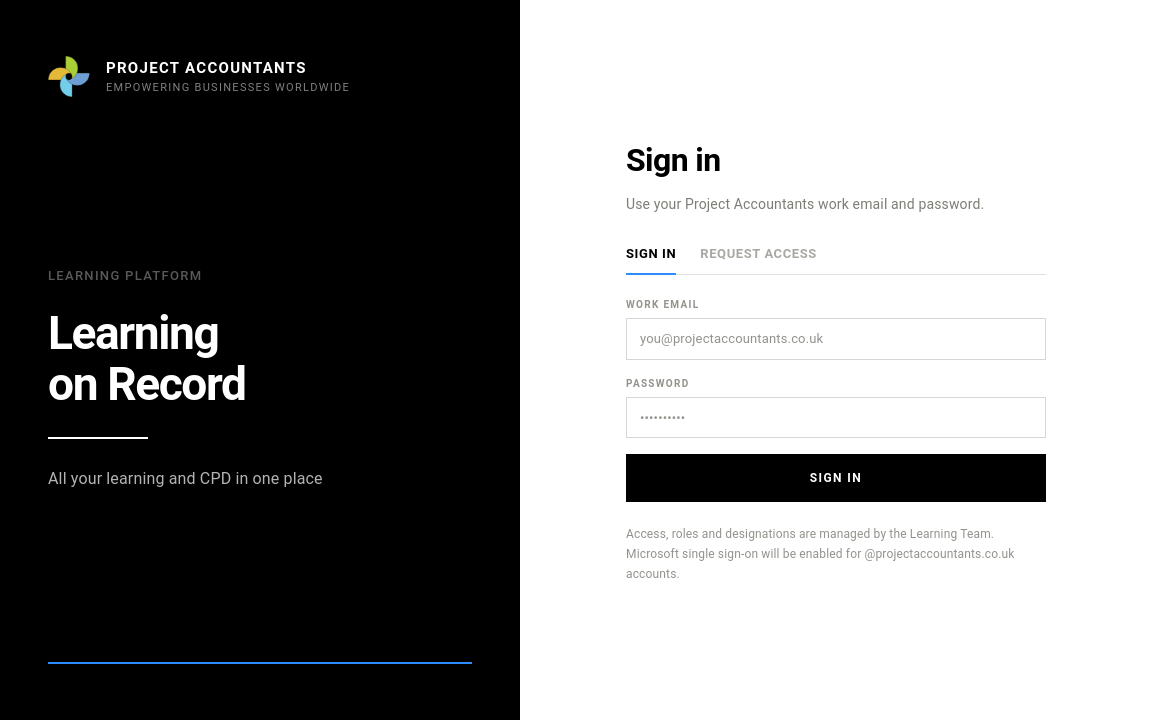
Test: SignInPage form › puts server field errors next to the field
The width and height of the screenshot is (1152, 720).
Click the tab "Request access": (759, 260) [700,244,817,275]
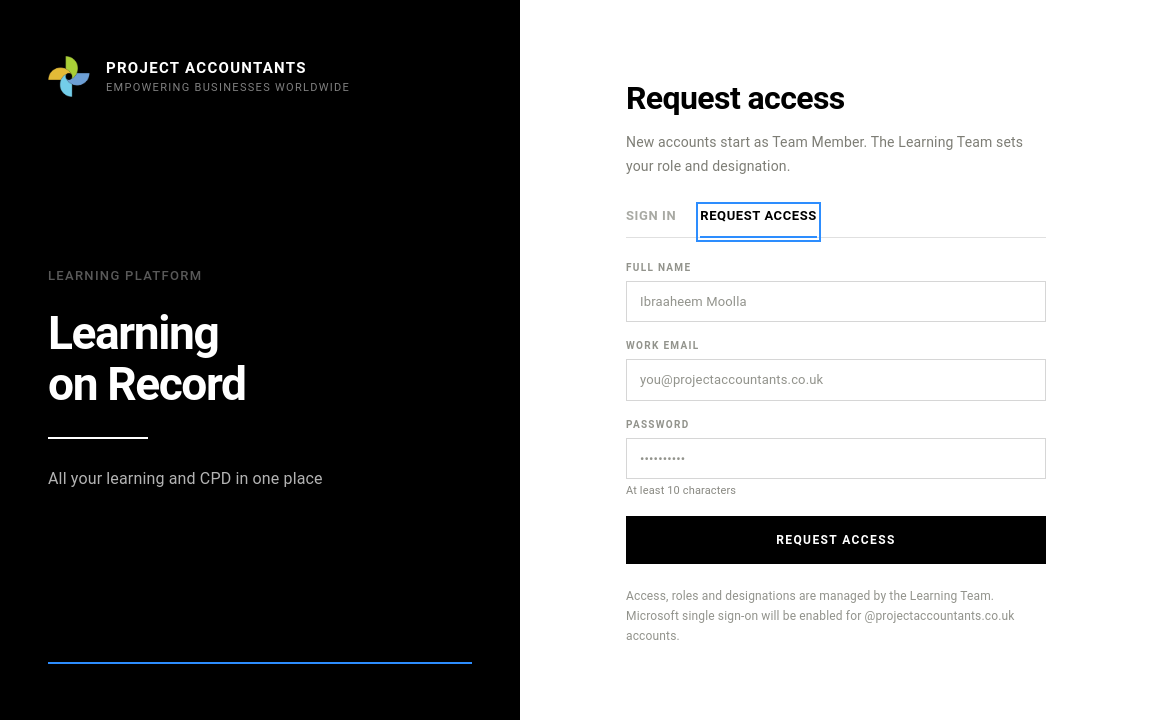
In the field labelled "Full name": (836, 302) [626,281,1046,322], type "Grace Lin"
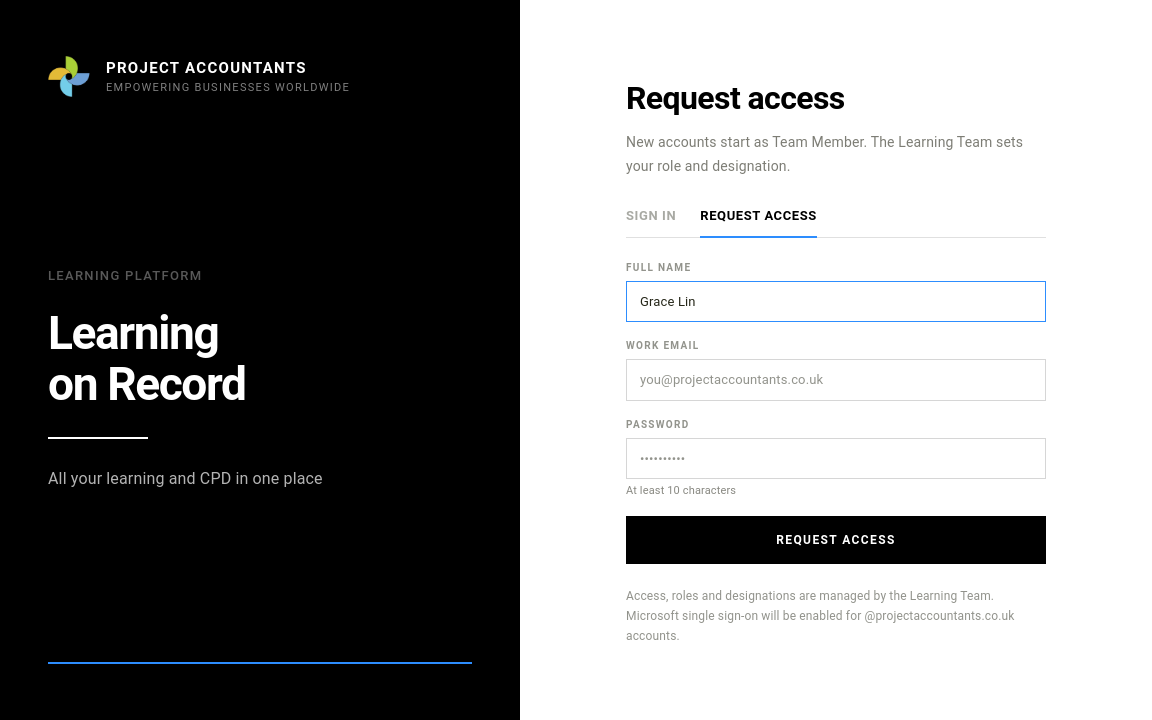
In the field labelled "Work email": (836, 380) [626,359,1046,401], type "glin@projectaccountants.co.uk"
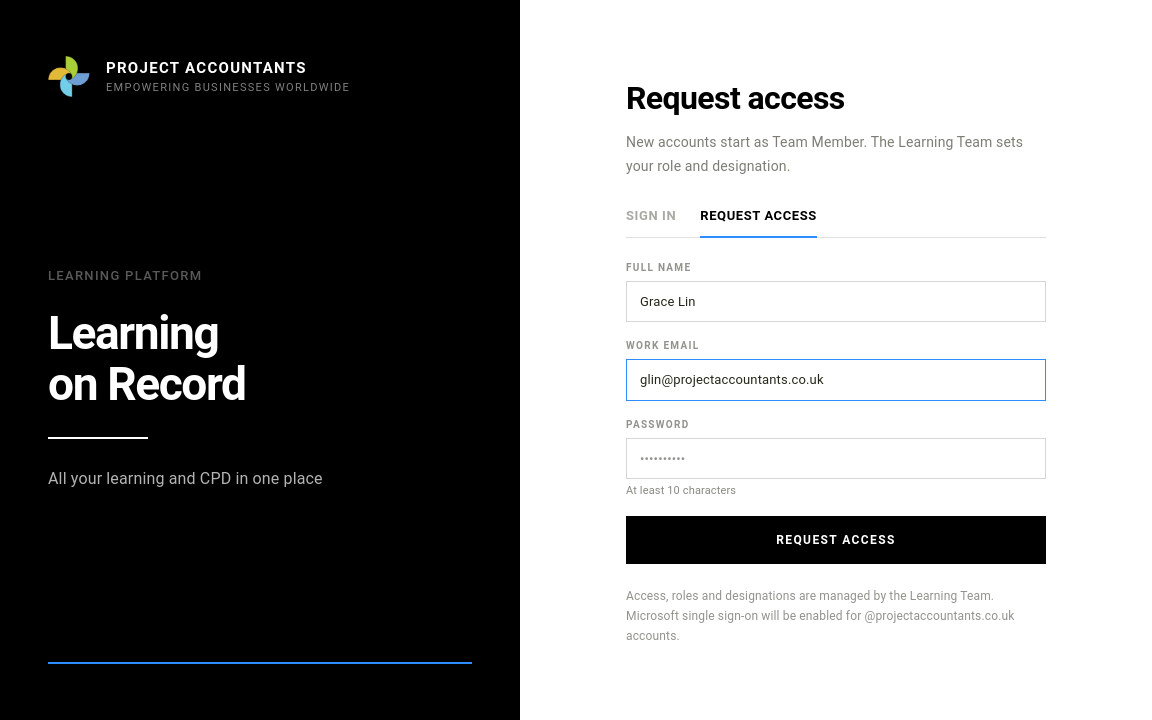
In the password field labelled "Password": (836, 459) [626,438,1046,479], type "long-enough-1"
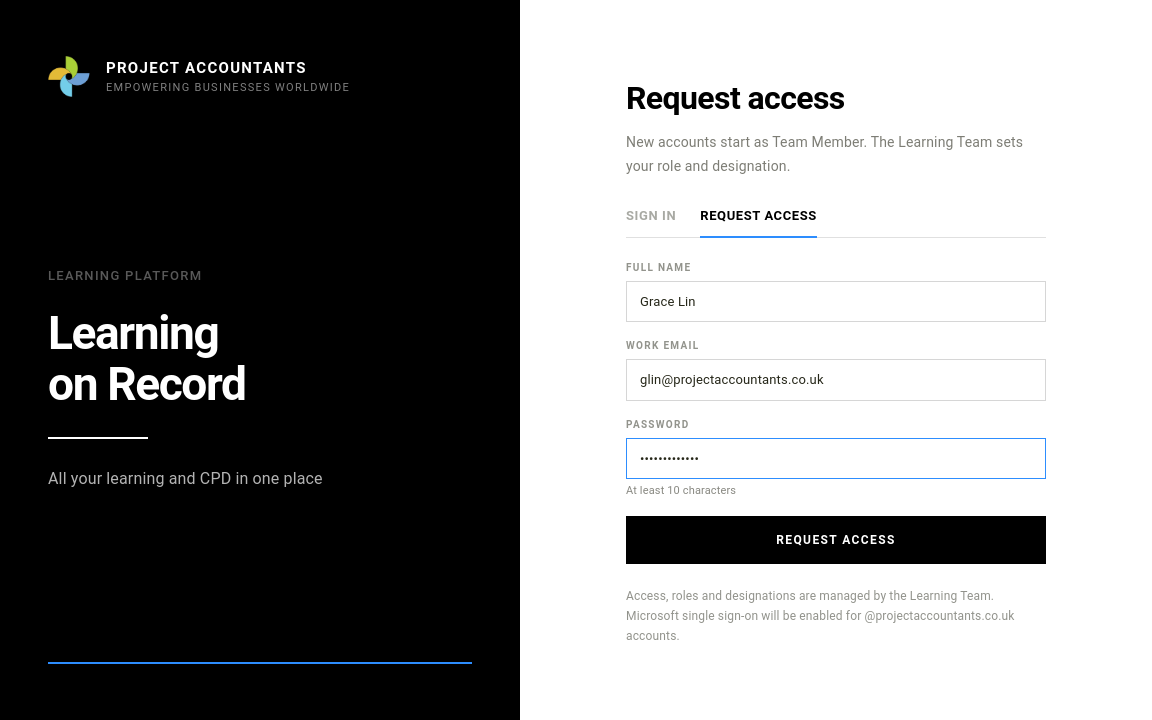
Click the button "Request access": (836, 540) [626,516,1046,564]
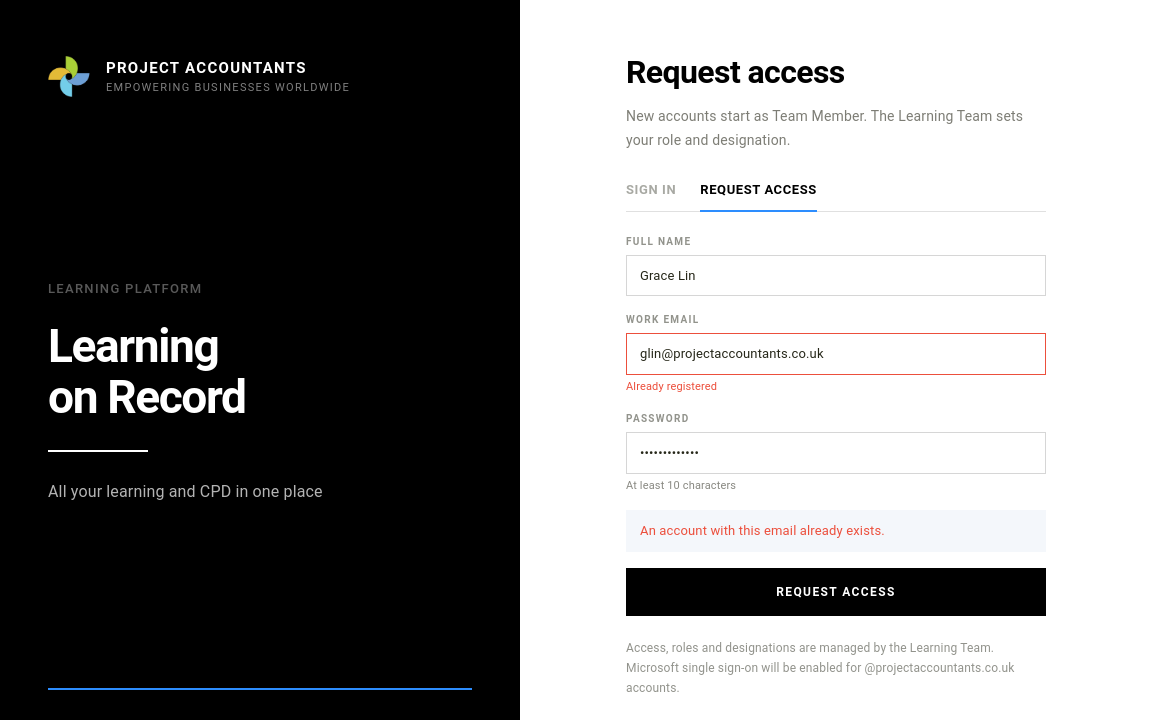
Now the text "Already registered" is shown, box [626,380,717,392]
Now the message reads "An account with this email already exists.", box [640,523,885,538]
